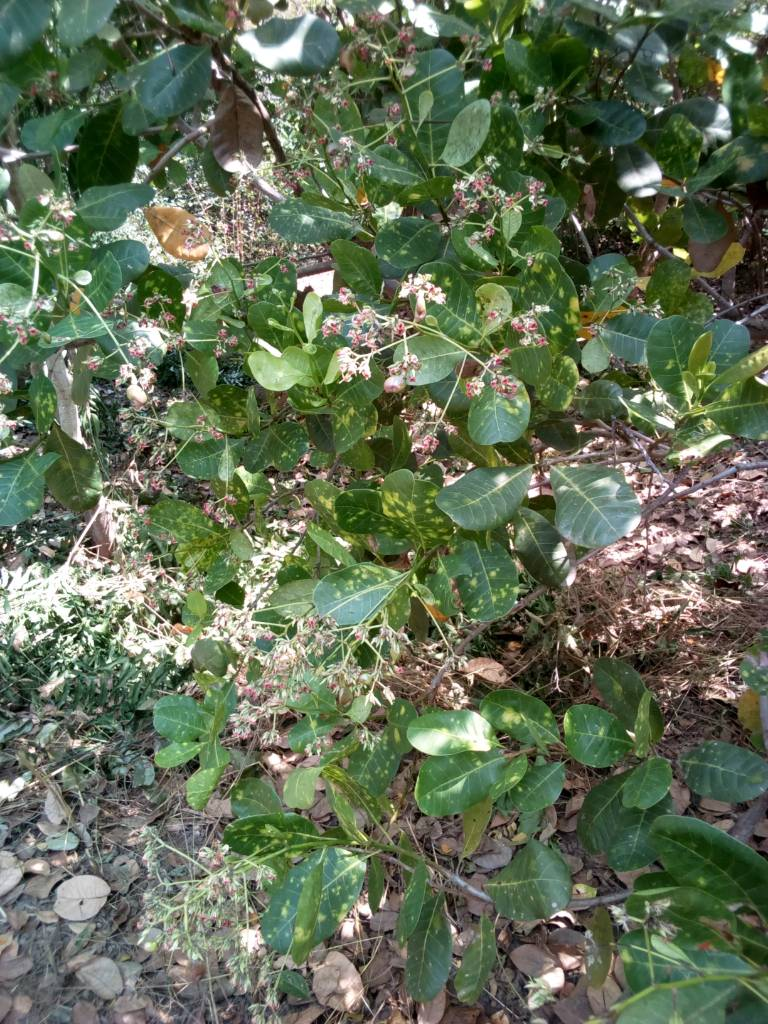Carence minérale: (308, 560, 422, 644), (400, 700, 508, 774), (453, 370, 541, 452), (374, 461, 452, 549), (244, 340, 344, 395)
